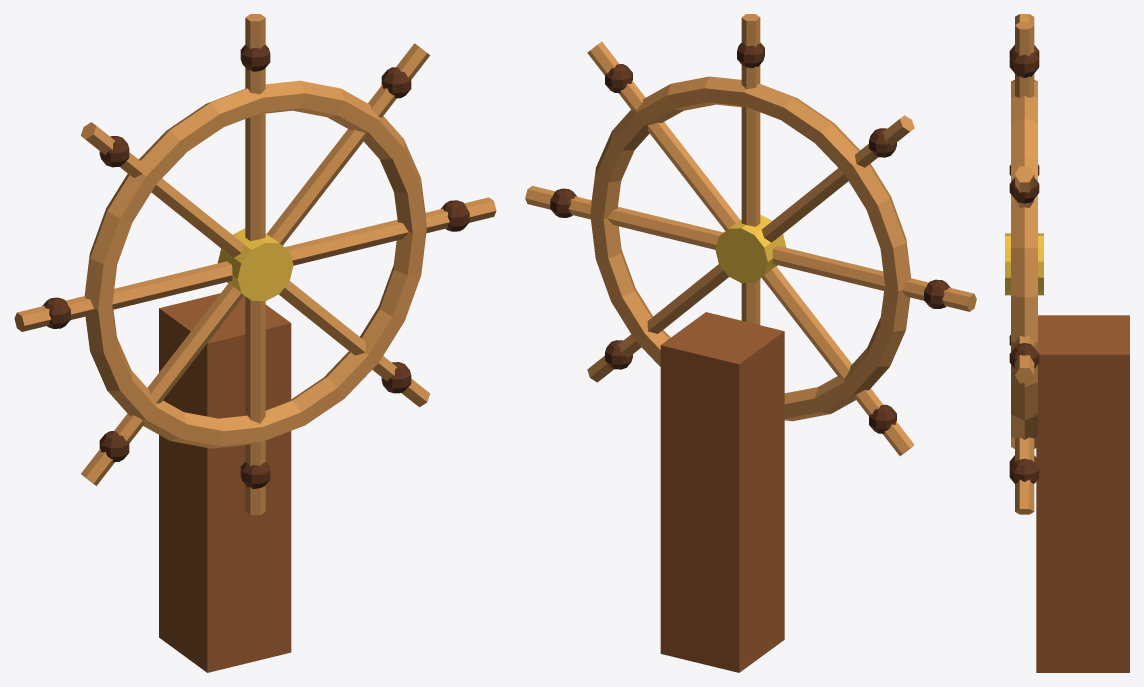
The model's file is upgrade_ship_s_wheel_ash_rudder.web-pbr.glb.
3 views of the same model, side by side, from view 1: azimuth 30°, elevation 25°; view 2: azimuth 150°, elevation 25°; view 3: azimuth 270°, elevation 25° (orthographic). The views are drawn at different scales.
Visible parts, largest first — view 1: upgrade_ship_s_wheel_ash_rudder_mesh; view 2: upgrade_ship_s_wheel_ash_rudder_mesh; view 3: upgrade_ship_s_wheel_ash_rudder_mesh.
Part boxes in pixels (box(x1,y1,x2,y2)): upgrade_ship_s_wheel_ash_rudder_mesh: box(14, 14, 496, 672); upgrade_ship_s_wheel_ash_rudder_mesh: box(525, 14, 976, 672); upgrade_ship_s_wheel_ash_rudder_mesh: box(1005, 14, 1129, 672).
Size of the model in its own units: 1.35 by 1.78 by 0.32.
1 material, 1 textured.
